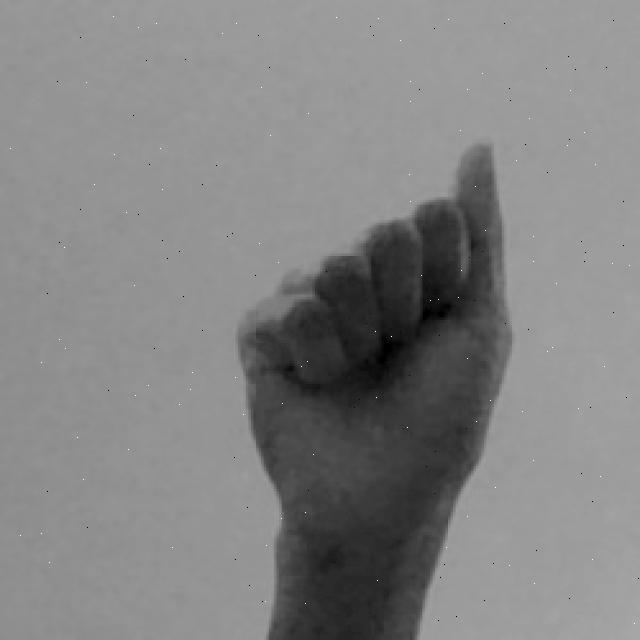A: (233, 138, 520, 640)
